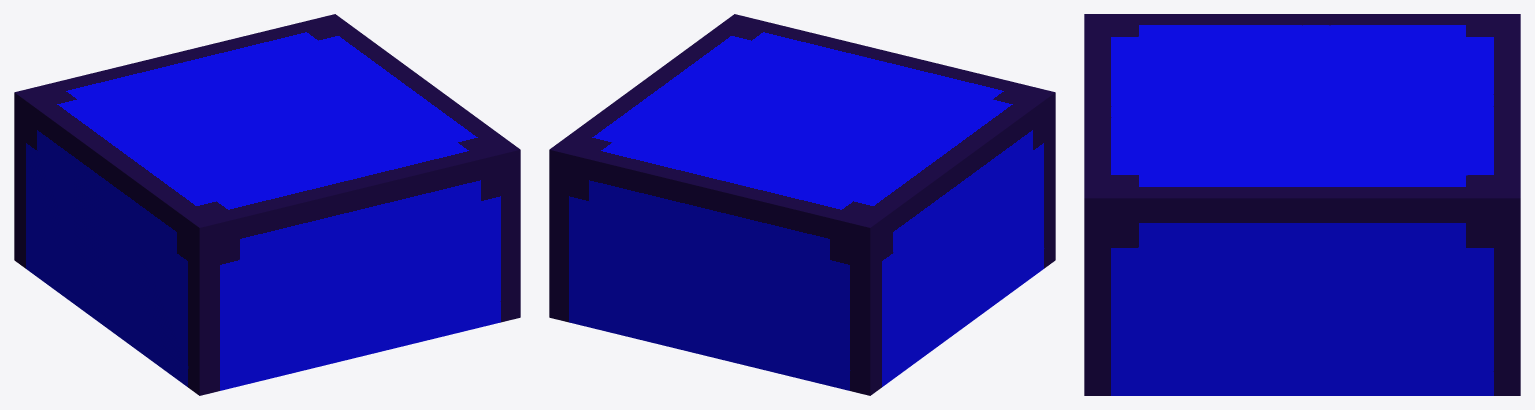
Rendered from 1_blue.obj.
The picture shows the model from 3 angles, left to right: view 1: azimuth 30°, elevation 25°; view 2: azimuth 150°, elevation 25°; view 3: azimuth 270°, elevation 25°; orthographic projection. The views are drawn at different scales.
Parts seen in each view (by area): view 1: 1_blue; view 2: 1_blue; view 3: 1_blue.
Boxes of the visible parts, x1,y1,x2,y2 form: 1_blue: (14, 14, 520, 395); 1_blue: (549, 14, 1055, 395); 1_blue: (1084, 14, 1520, 395).
Bounding box in the file's own units: 1 × 0.5 × 1.
Materials: 1 (1 with a texture image).
